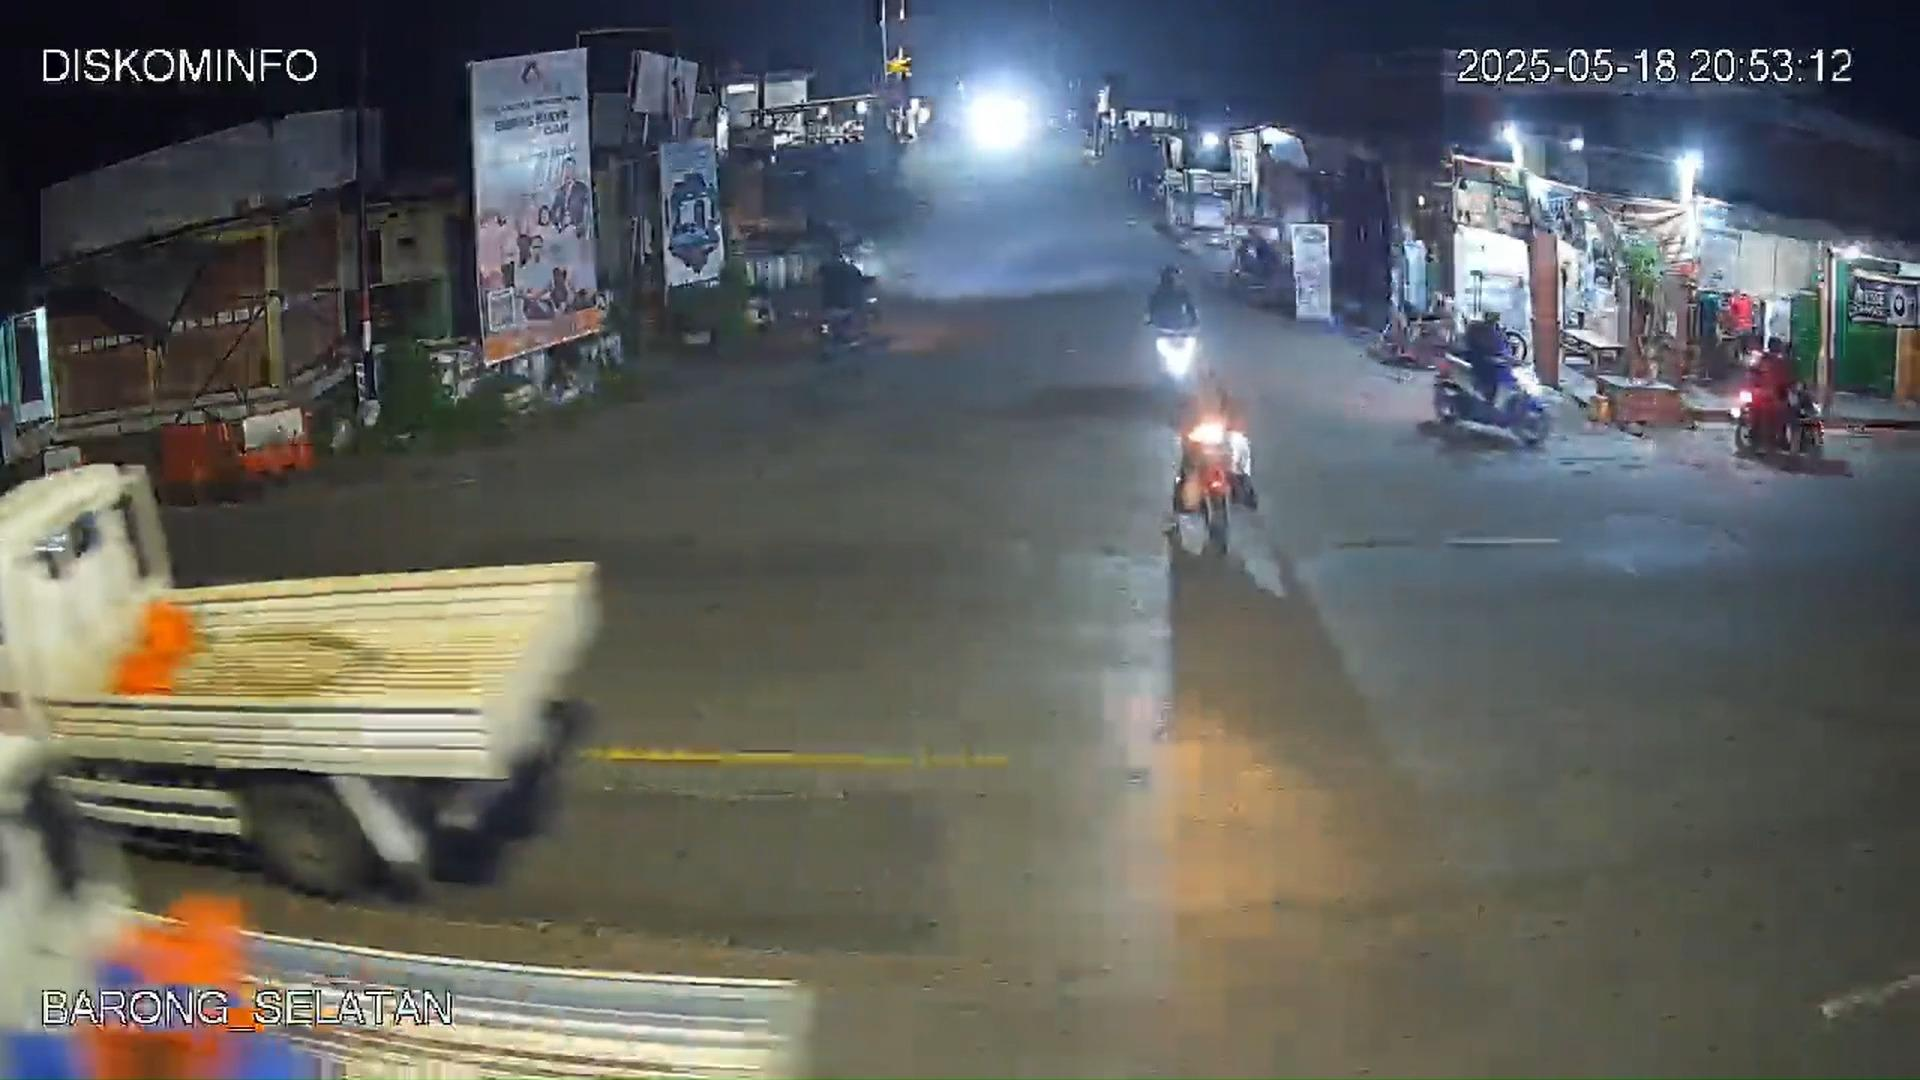Motor: (1170, 376, 1253, 547), (1718, 339, 1799, 459), (815, 248, 878, 361), (1145, 281, 1201, 385)
Truck: (4, 465, 611, 895)
